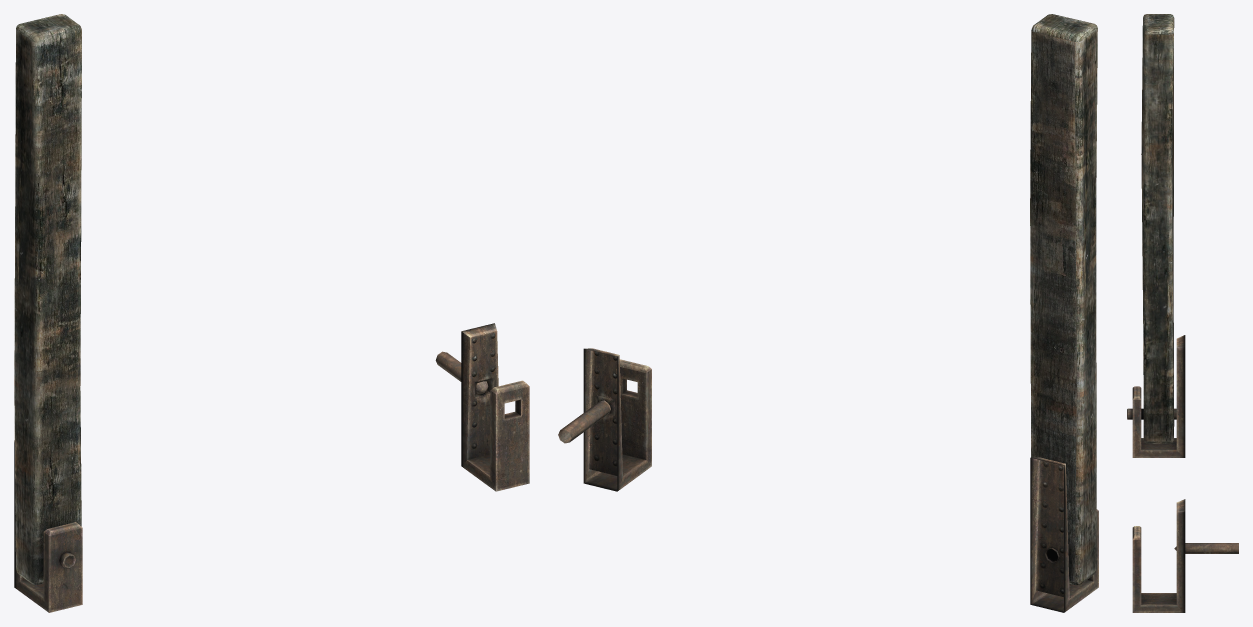
The model's file is door_barricade.dae.
The picture shows the model from 3 angles, left to right: view 1: azimuth 30°, elevation 25°; view 2: azimuth 150°, elevation 25°; view 3: azimuth 270°, elevation 25°; orthographic projection. The views are drawn at different scales.
Visible parts, largest first — view 1: door_barricade_wood, door_barricade_mount; view 2: door_barricade_wood, door_barricade_mount, door_barricade_lock; view 3: door_barricade_wood, door_barricade_mount, door_barricade_lock.
Boxes of the visible parts, x1=… form: door_barricade_wood: x1=14, y1=14, x2=81, y2=584; door_barricade_mount: x1=14, y1=323, x2=529, y2=612; door_barricade_wood: x1=1030, y1=14, x2=1097, y2=585; door_barricade_mount: x1=583, y1=348, x2=1098, y2=612; door_barricade_lock: x1=558, y1=400, x2=610, y2=443; door_barricade_wood: x1=1141, y1=14, x2=1174, y2=443; door_barricade_mount: x1=1127, y1=335, x2=1185, y2=612; door_barricade_lock: x1=1174, y1=543, x2=1238, y2=553.
Size of the model in its own units: 2.62 by 2.92 by 0.6883.
